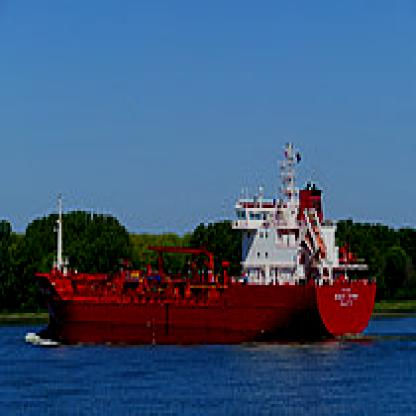Tanker: (30, 134, 380, 348)
